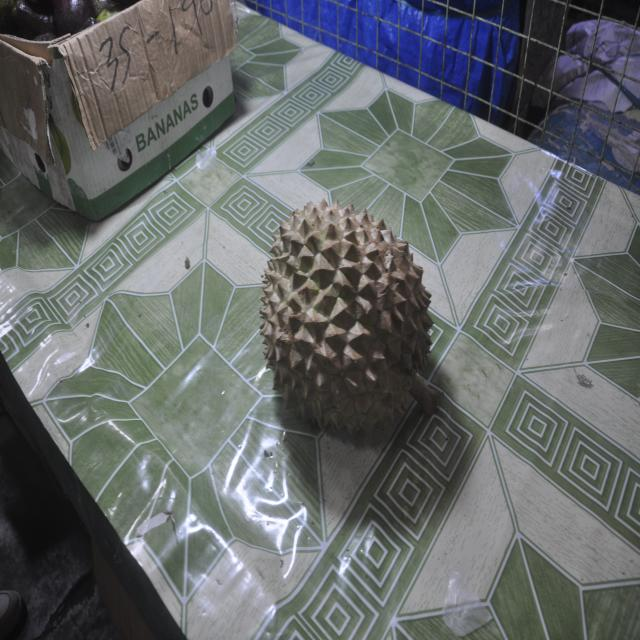mature: (260, 200, 437, 433)
